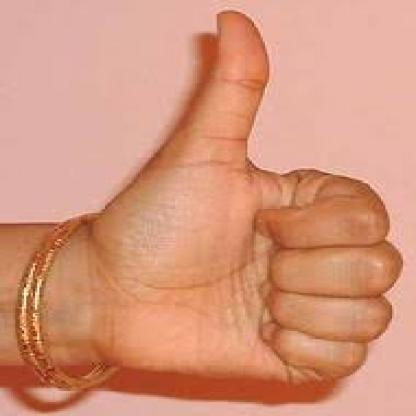thumb_up: (90, 6, 404, 390)
